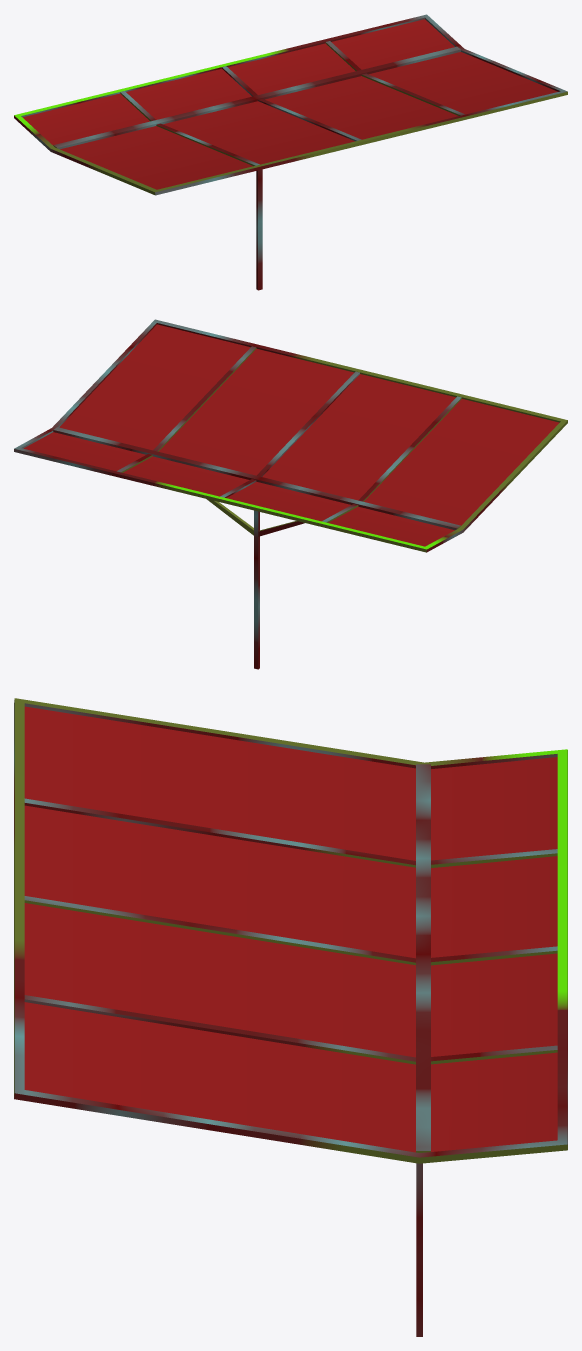
The model's file is SM_Shed_v02.fbx.
3 views of the same model, one above another, from view 1: azimuth 30°, elevation 25°; view 2: azimuth 150°, elevation 25°; view 3: azimuth 270°, elevation 25° (orthographic). The views are drawn at different scales.
Visible parts, largest first — view 1: Shed_v2; view 2: Shed_v2; view 3: Shed_v2.
Boxes of the visible parts, bbox=[...] form: Shed_v2: bbox=[14, 14, 567, 290]; Shed_v2: bbox=[14, 319, 567, 669]; Shed_v2: bbox=[14, 698, 567, 1336].
Size of the model in its own units: 8.28 by 4.28 by 4.91.
